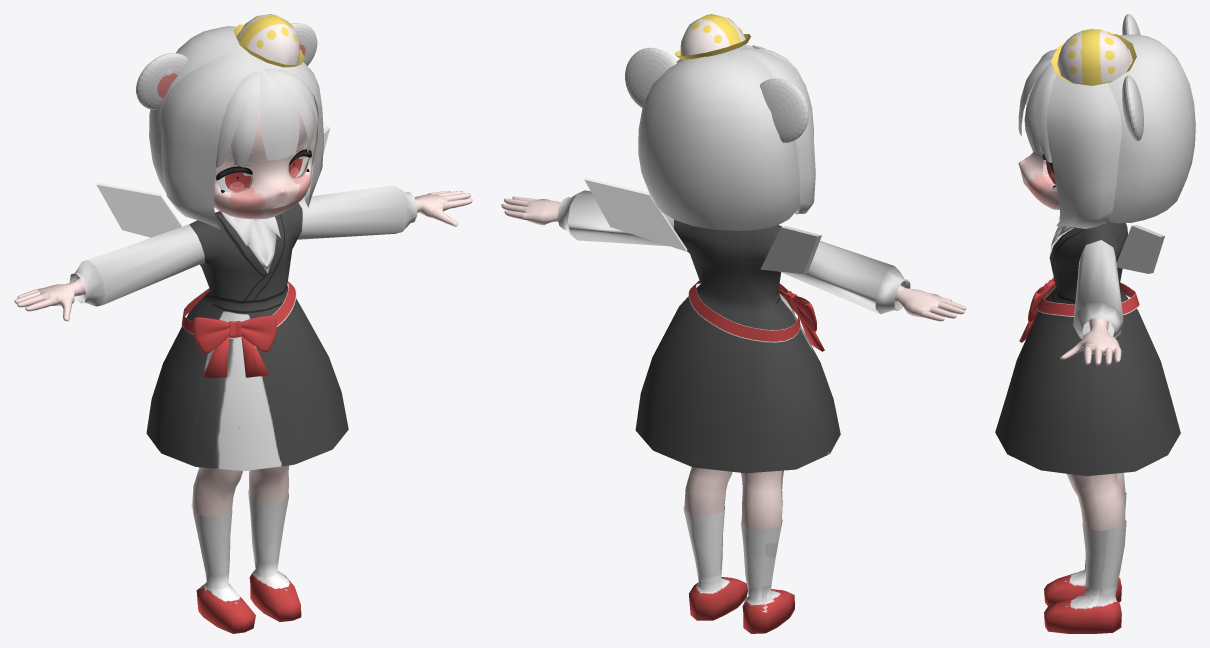
The model's file is hinatuba.glb.
The picture shows the model from 3 angles, left to right: view 1: azimuth 30°, elevation 25°; view 2: azimuth 150°, elevation 25°; view 3: azimuth 270°, elevation 25°; orthographic projection.
Parts seen in each view (by area): view 1: te; view 2: te; view 3: te.
Boxes of the visible parts, box(x1,y1,x2,y2) form: te: box(14, 14, 472, 633); te: box(501, 14, 966, 633); te: box(995, 14, 1195, 633).
Bounding box in the file's own units: 0.9385 × 1.16 × 0.3533.
Materials: 2 (2 with a texture image).
